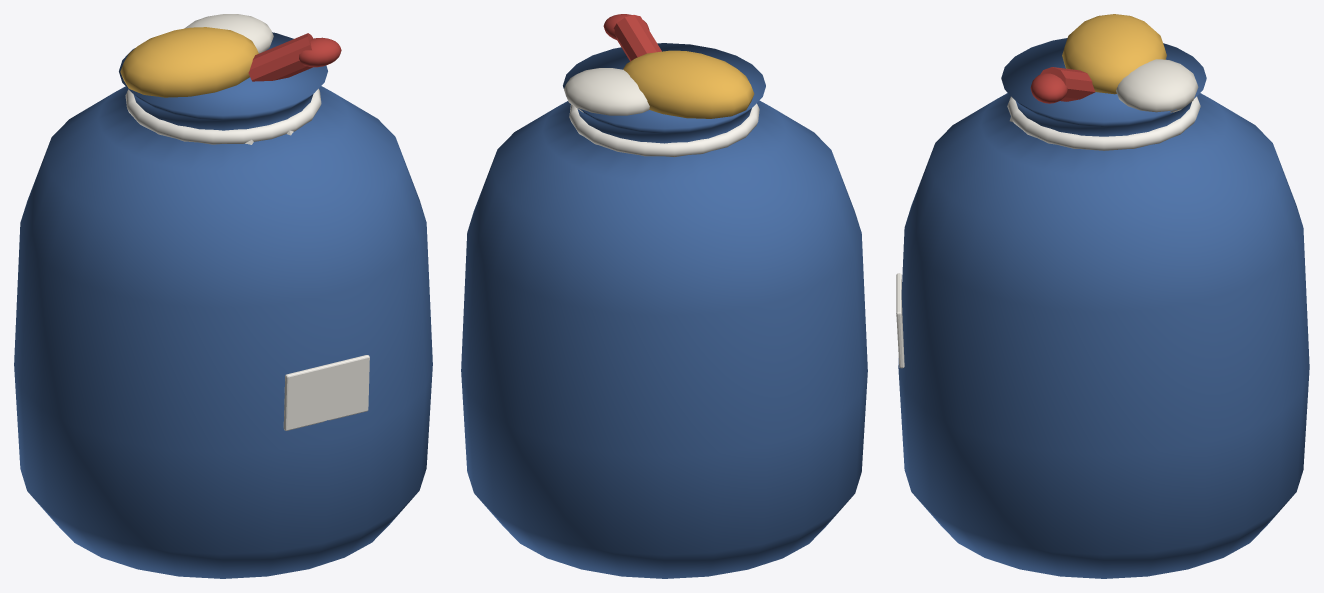
The model's file is hh_cat_laundry_bag.glb.
3 views of the same model, side by side, from view 1: azimuth 30°, elevation 25°; view 2: azimuth 150°, elevation 25°; view 3: azimuth 270°, elevation 25° (orthographic). The views are drawn at different scales.
Visible parts, largest first — view 1: laundry_bag, shirt, label, drawcord, sock, tshirt, sock_toe; view 2: laundry_bag, shirt, tshirt, drawcord, sock; view 3: laundry_bag, shirt, tshirt, drawcord, sock, sock_toe, label.
Boxes of the visible parts, <box> form: laundry_bag: <box>14,32,432,578</box>; shirt: <box>120,27,258,97</box>; label: <box>283,355,369,430</box>; drawcord: <box>125,88,321,144</box>; sock: <box>248,33,313,81</box>; tshirt: <box>184,14,273,53</box>; sock_toe: <box>299,37,341,67</box>; laundry_bag: <box>461,43,867,578</box>; shirt: <box>623,50,754,118</box>; tshirt: <box>564,68,649,115</box>; drawcord: <box>569,103,759,157</box>; sock: <box>613,15,661,61</box>; laundry_bag: <box>898,38,1309,578</box>; shirt: <box>1062,14,1166,94</box>; tshirt: <box>1116,59,1198,112</box>; drawcord: <box>1007,96,1200,150</box>; sock: <box>1040,67,1095,101</box>; sock_toe: <box>1030,73,1067,103</box>; label: <box>896,273,904,368</box>.
Bounding box in the file's own units: 0.4 × 0.5 × 0.4.
